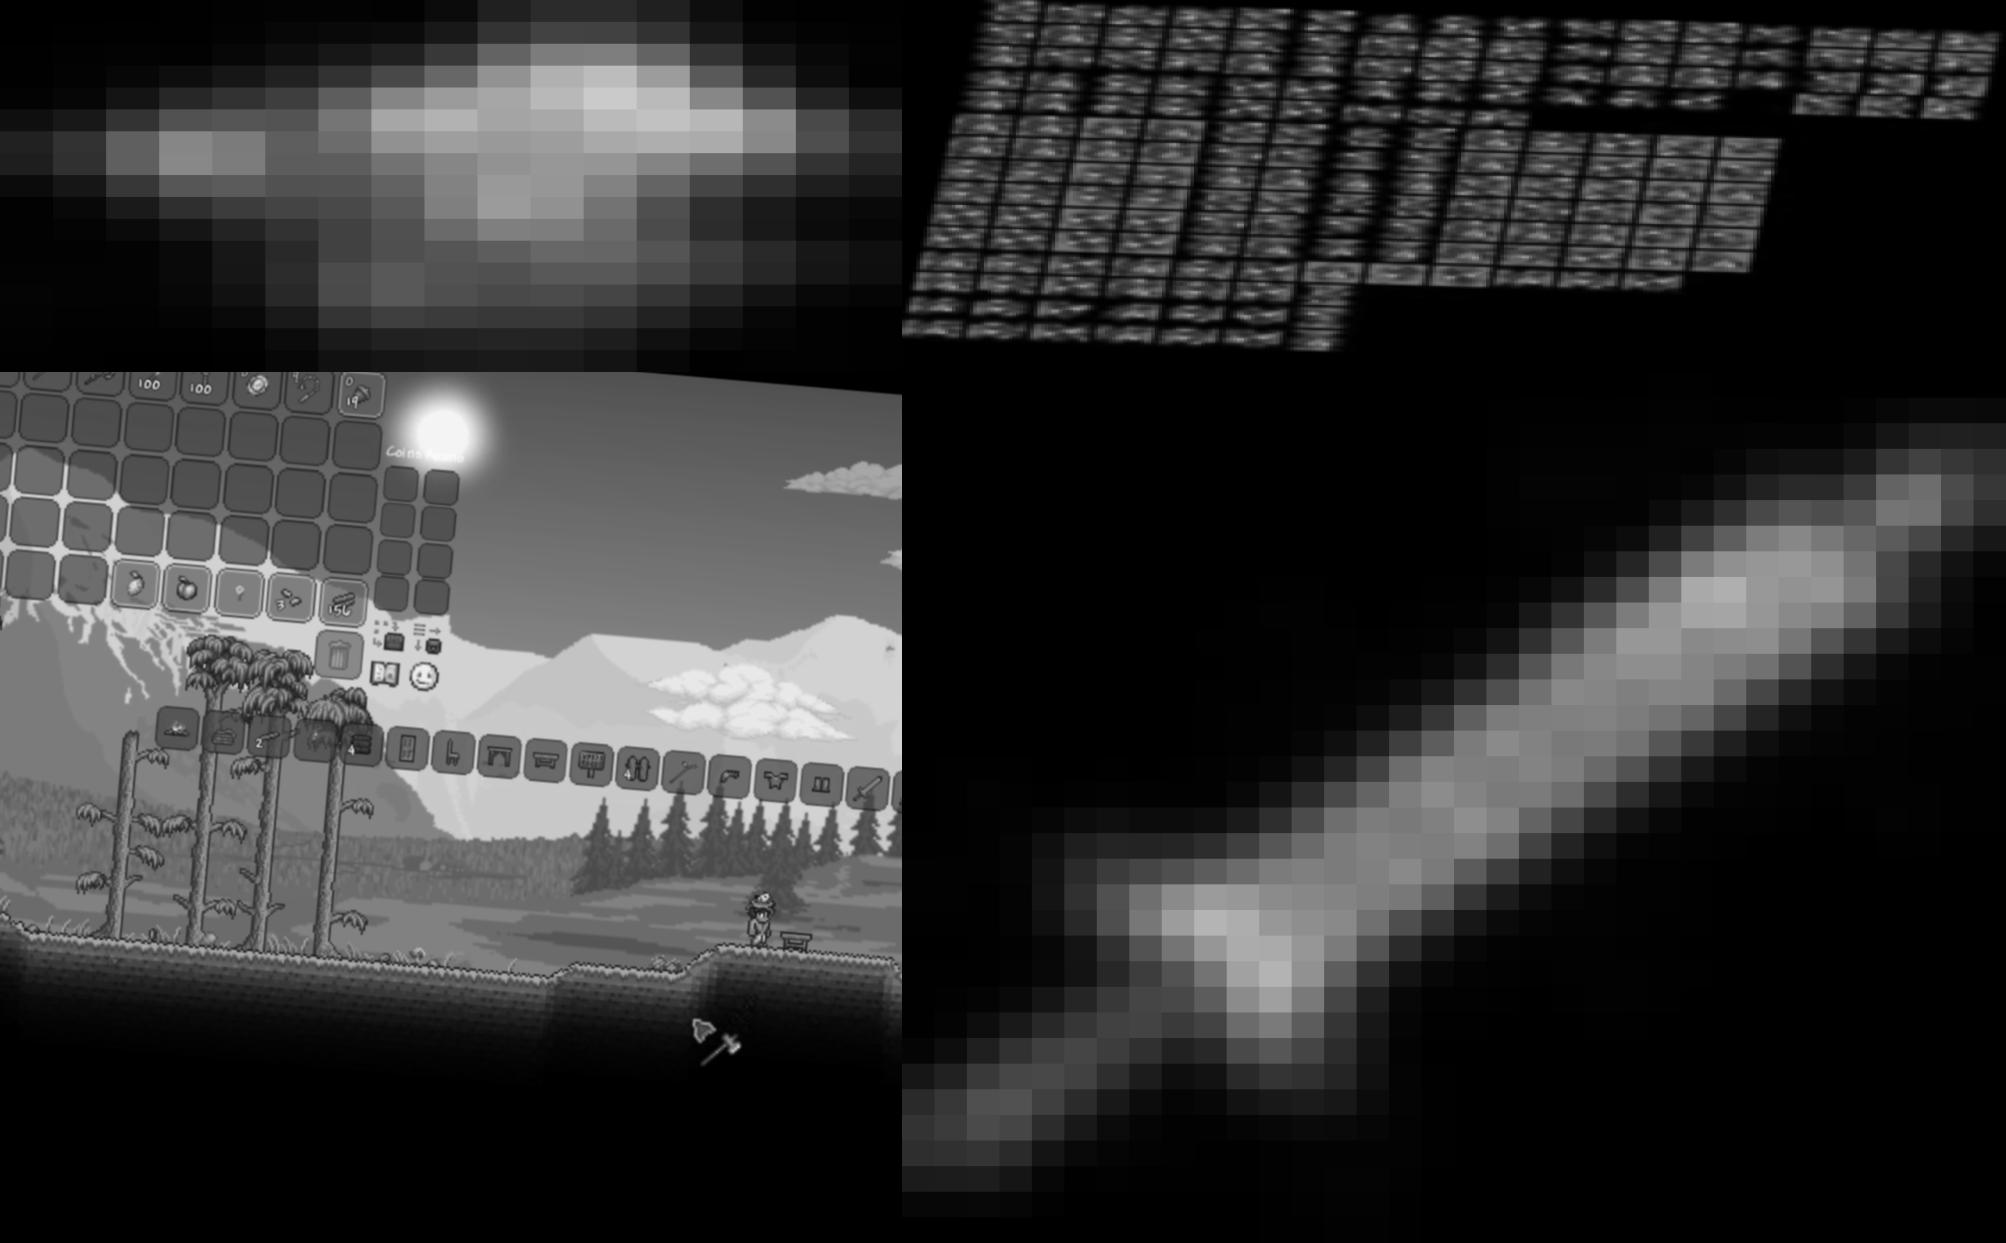helmet: (716, 767, 742, 789)
iron: (980, 0, 1047, 23)
ore: (0, 0, 903, 371)
sword: (903, 371, 2006, 1243)
